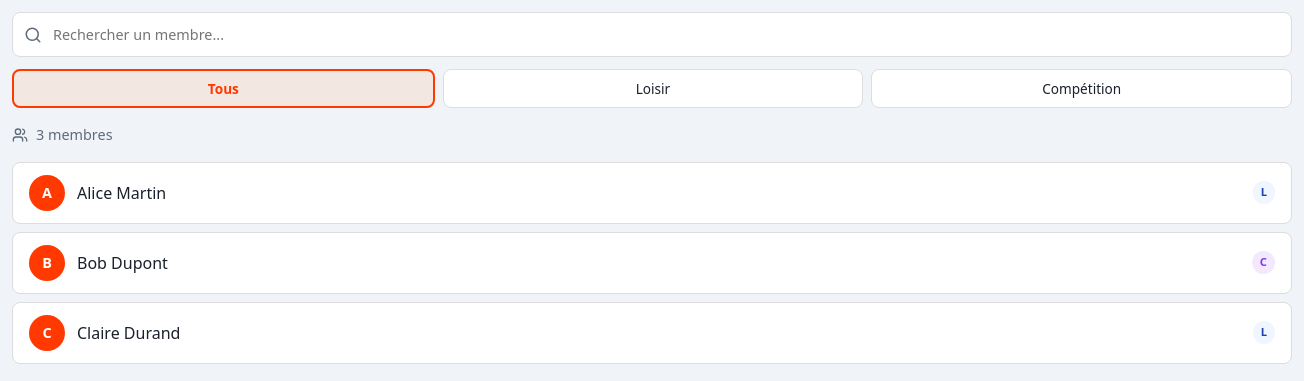
it: ClubMembers › filtre les membres par recherche
Type "alice" into the field with placeholder "Rechercher un membre..." at (652, 34), box [12,12,1292,57]
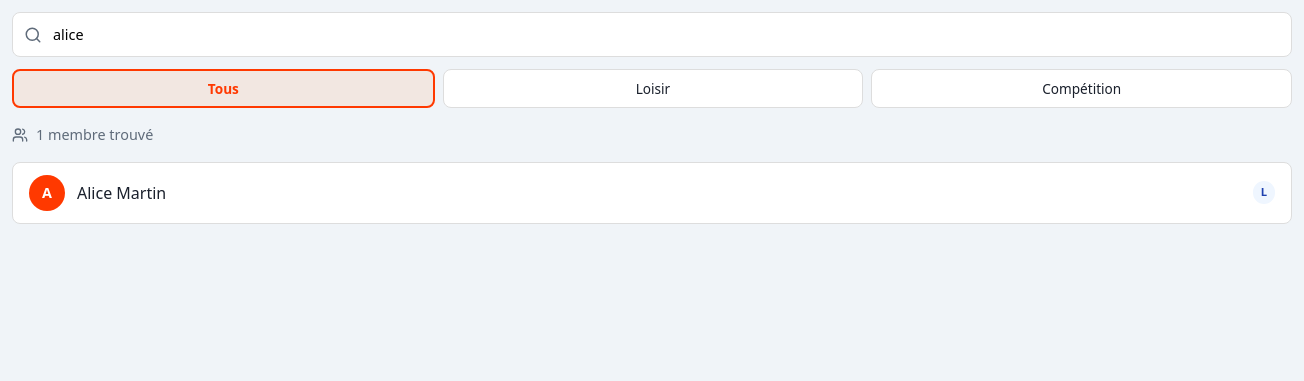
Expected: the text "Alice Martin" is shown, [77,182,166,204]
Expected: the text "Bob Dupont" is gone
